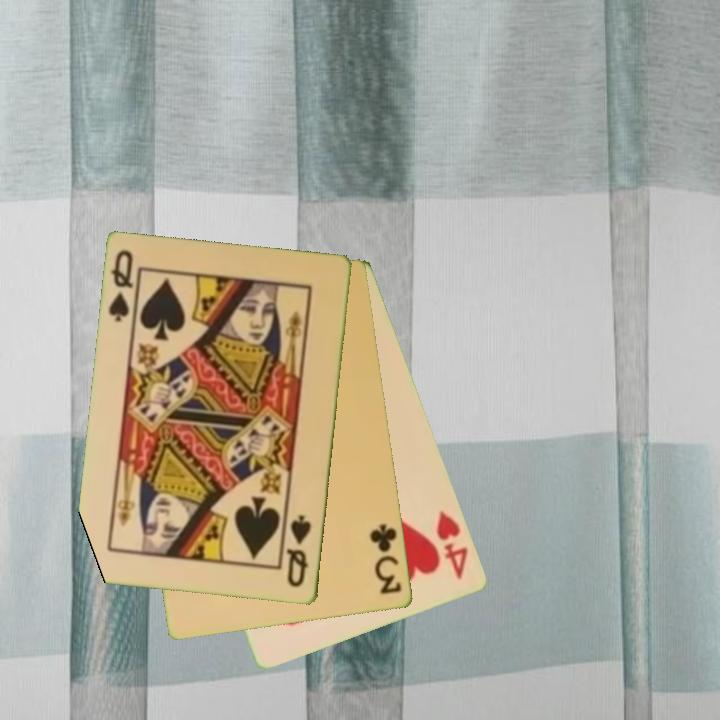3c: (367, 520, 405, 598)
4h: (433, 507, 472, 583)
Qs: (105, 247, 137, 325), (284, 511, 315, 591)
